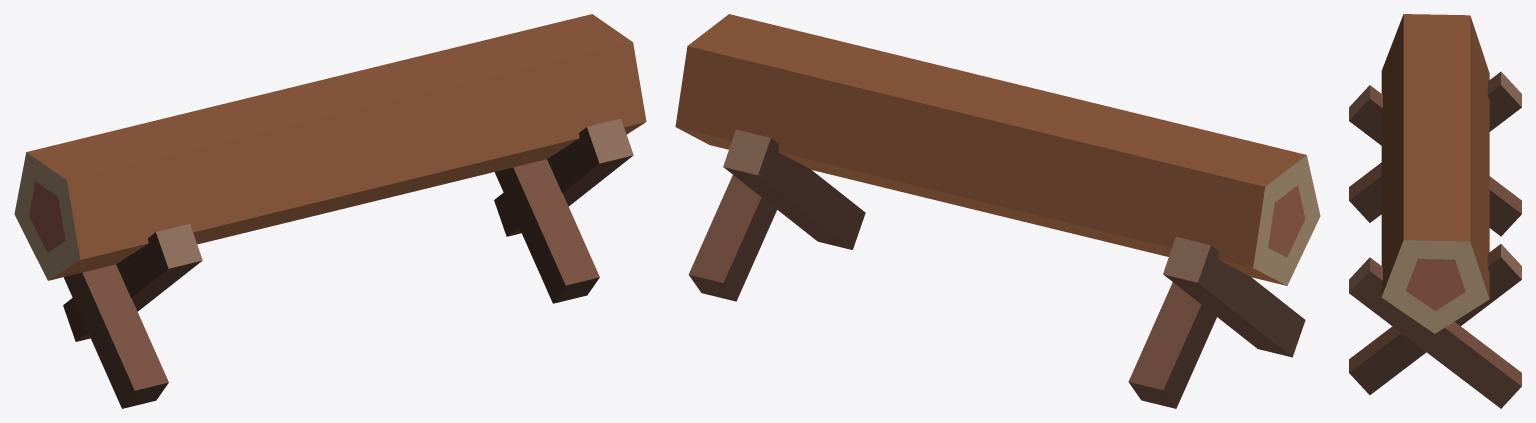
The model's file is TB_Prop_Lumber_Long_B.FBX.
3 views of the same model, side by side, from view 1: azimuth 30°, elevation 25°; view 2: azimuth 150°, elevation 25°; view 3: azimuth 270°, elevation 25° (orthographic). The views are drawn at different scales.
Visible parts, largest first — view 1: TB_Prop_Lumber_Long_B; view 2: TB_Prop_Lumber_Long_B; view 3: TB_Prop_Lumber_Long_B.
Part boxes in pixels (left/top/right/bottom): TB_Prop_Lumber_Long_B: left=14, top=14, right=646, bottom=408; TB_Prop_Lumber_Long_B: left=675, top=14, right=1320, bottom=408; TB_Prop_Lumber_Long_B: left=1349, top=14, right=1521, bottom=408.
Size of the model in its own units: 3.31 by 1.24 by 1.07.
